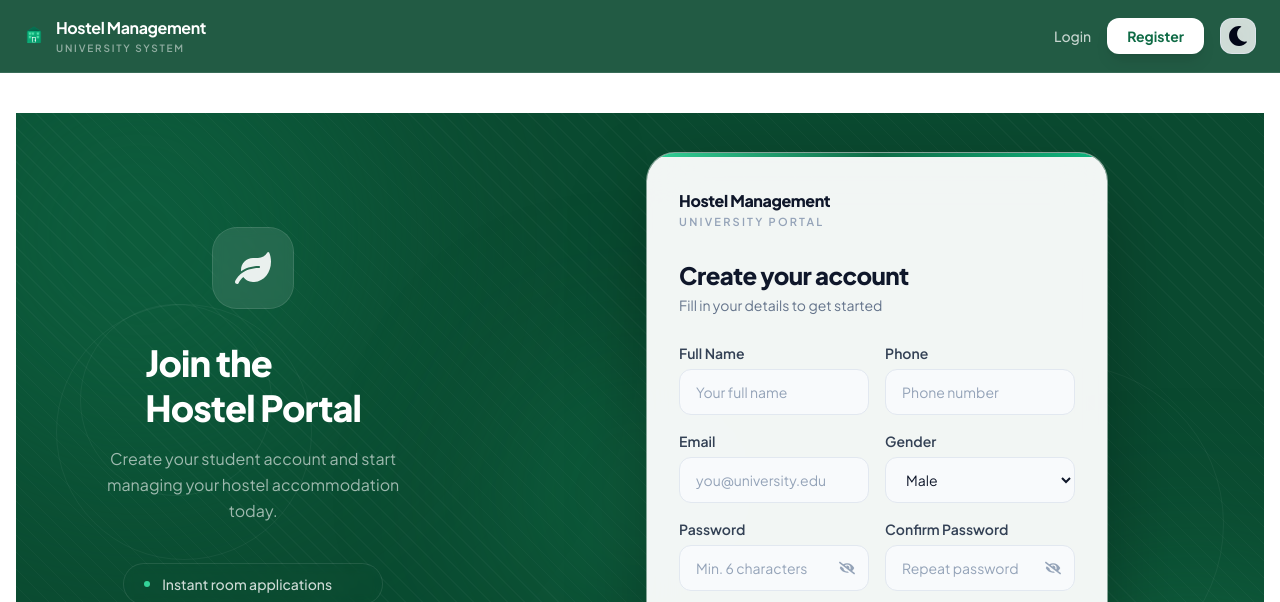
Test case: Registration Flow Integration Tests › shows error when passwords do not match
The width and height of the screenshot is (1280, 602).
Type "John Doe" into the field labelled "Full Name" at [774, 392], box [679,369,869,415]
Type "john@example.com" into the field labelled "Email" at [774, 480], box [679,457,869,503]
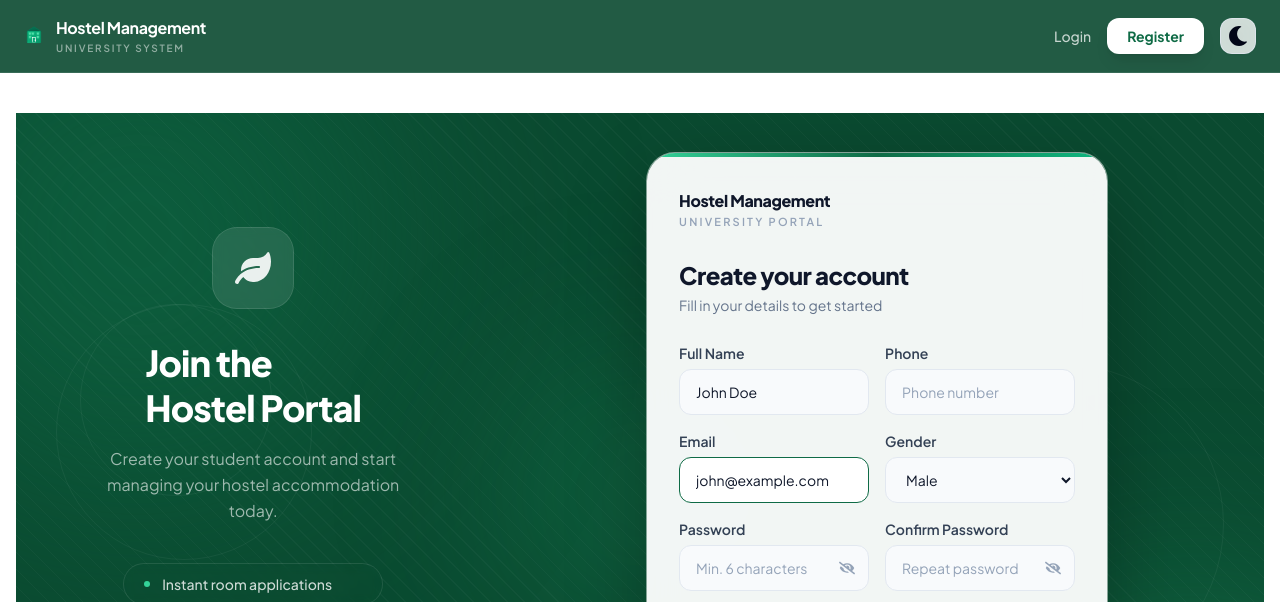
Type "0240000000" into the field labelled "Phone" at [980, 392], box [885,369,1075,415]
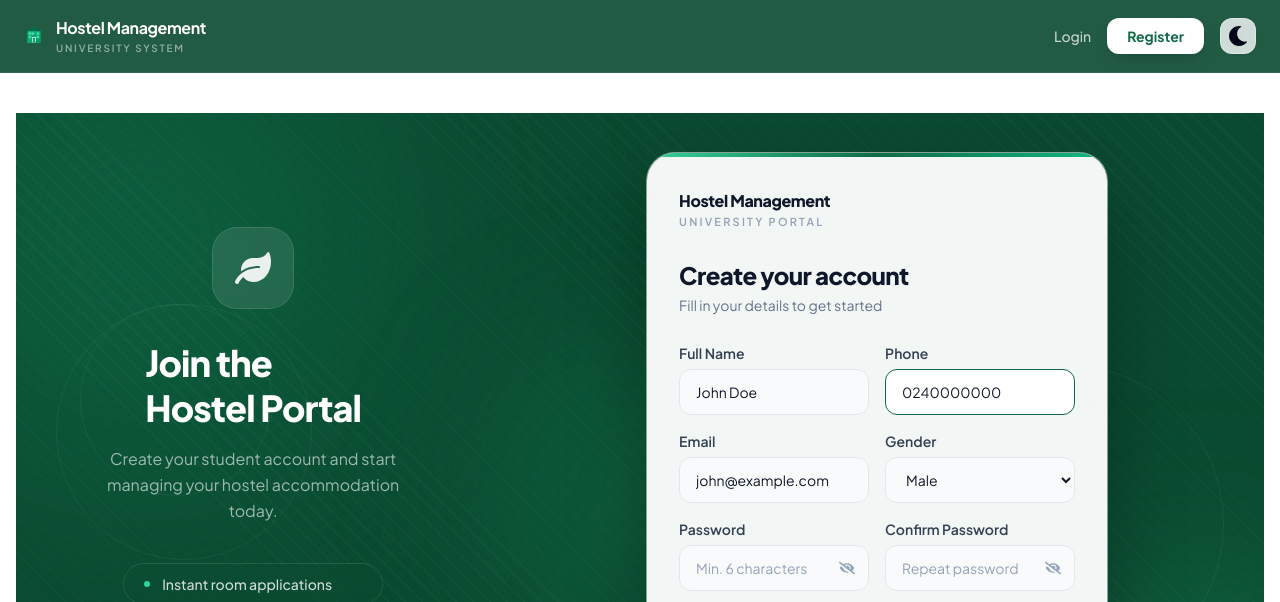
Select "Male" in the dropdown labelled "Gender" at [980, 480], box [885,457,1075,503]
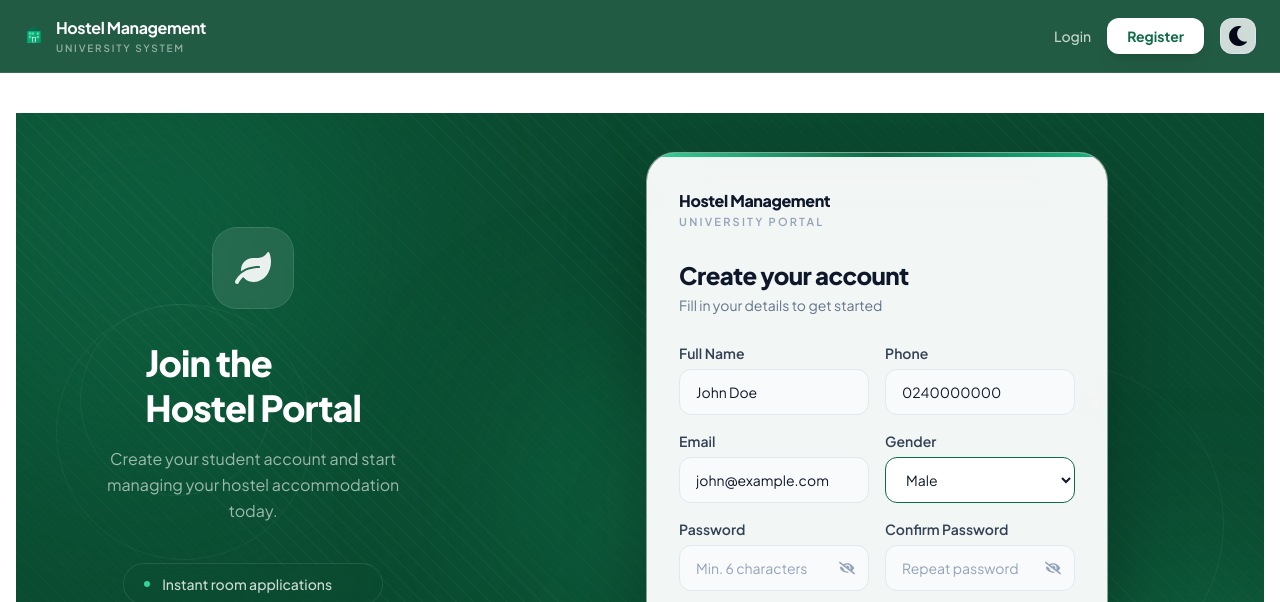
Type "Password123" into the password field labelled "Password" at [774, 568], box [679,545,869,591]
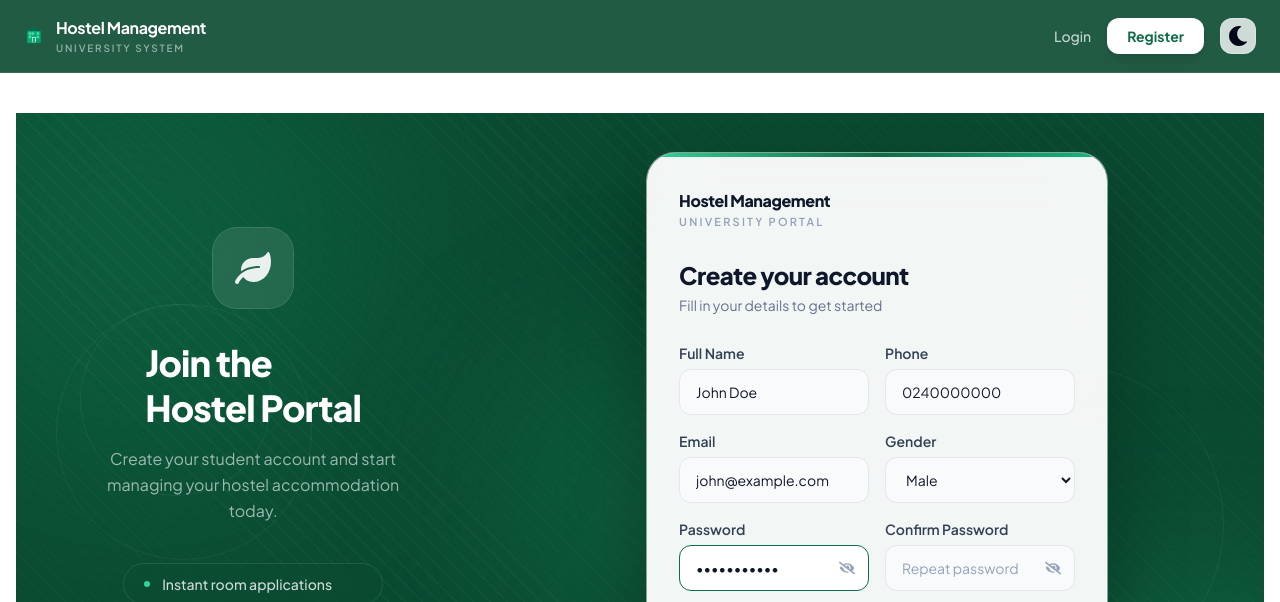
Type "WrongPassword" into the password field labelled "Confirm Password" at [980, 568], box [885,545,1075,591]
(page scrolled)
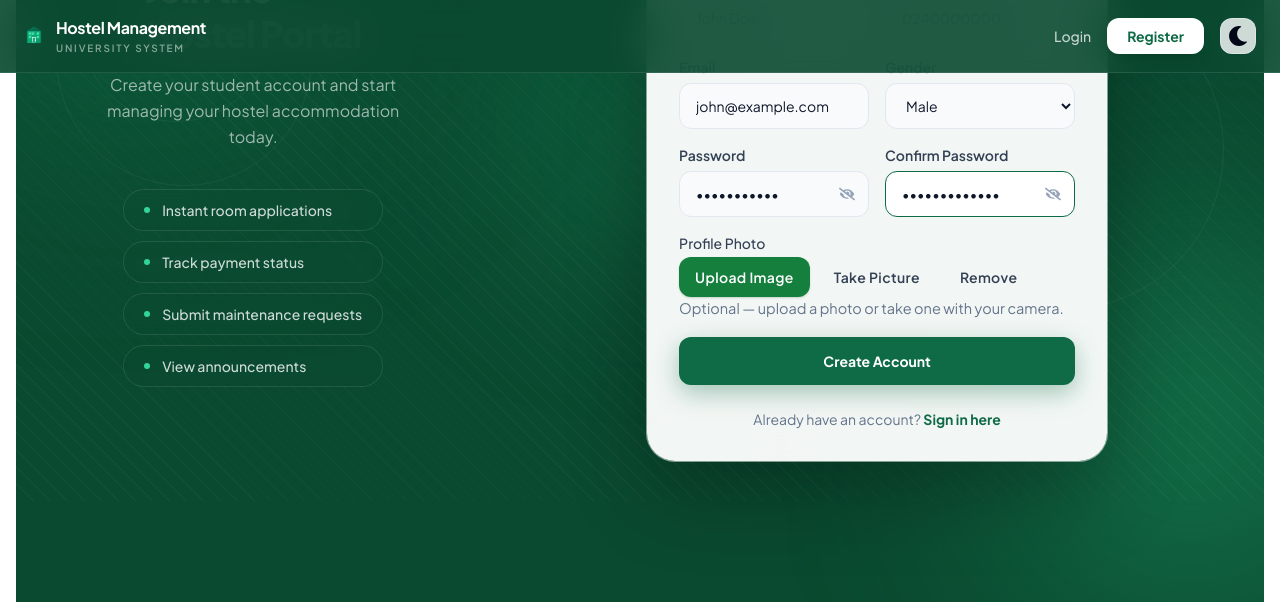
Click the button "Create Account" at [877, 361], box [679,337,1075,385]
(page scrolled)
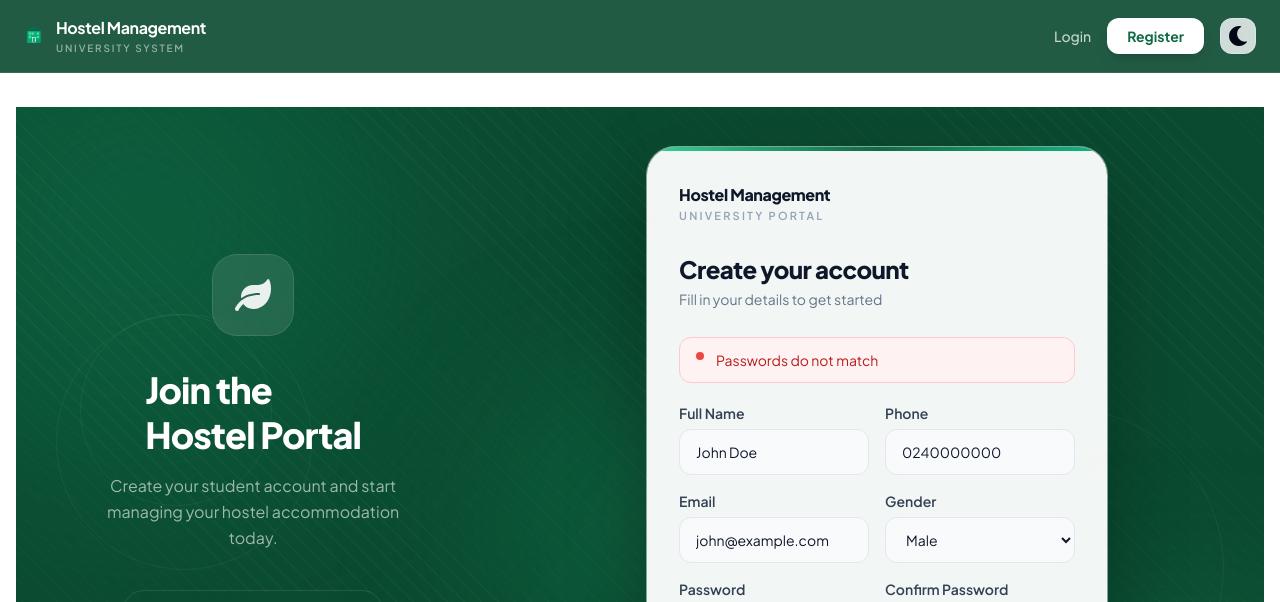
Expected: the text "Passwords do not match" is shown, [716,350,878,370]
